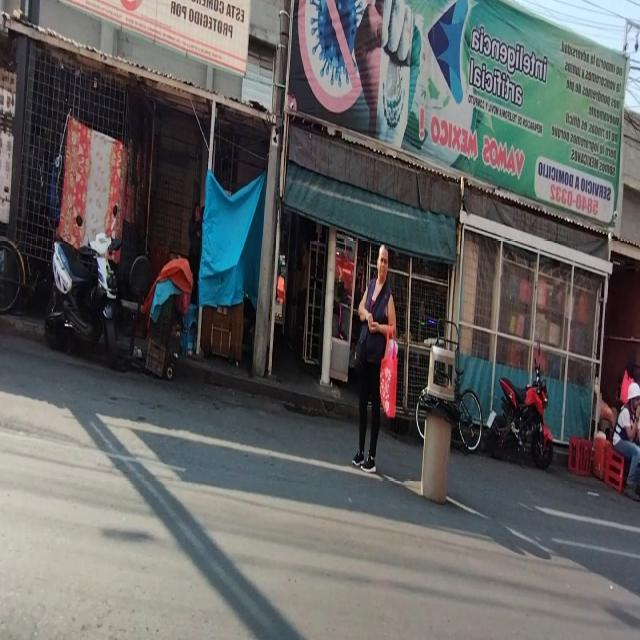adult: (353, 243, 397, 474), (611, 384, 640, 499), (190, 202, 202, 272)
